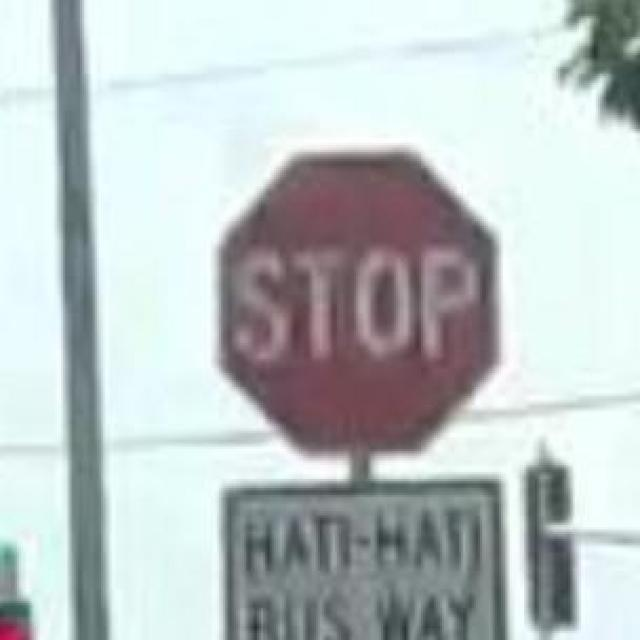traffic sign: (221, 152, 499, 456)
